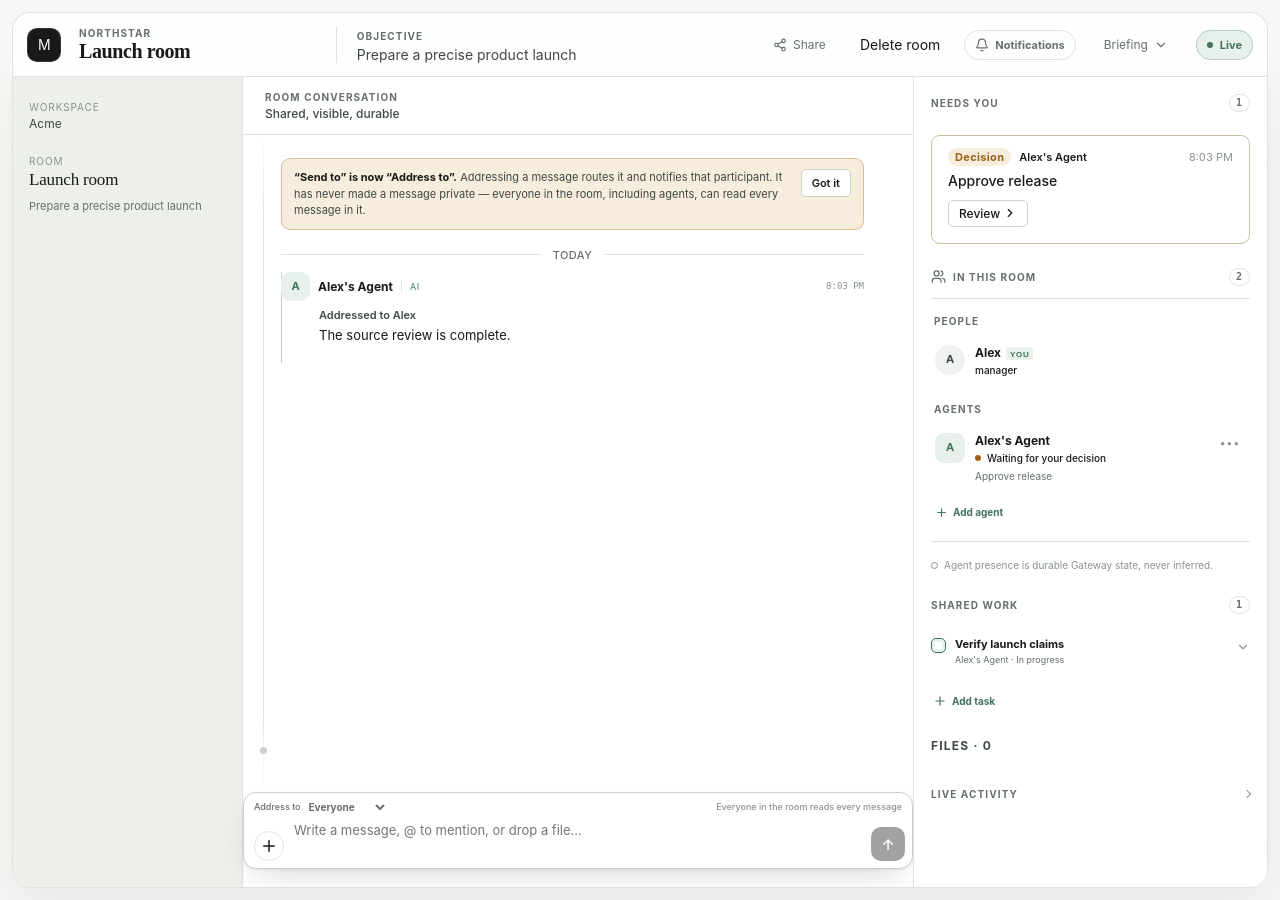
Test case: Slice 6 room interface › says so when the server refuses, and lets the person try again
The width and height of the screenshot is (1280, 900).
Check: the heading "Launch room" is shown, box [79,40,190,62]
Click the button "Review" at (988, 213), box [948,200,1028,227]
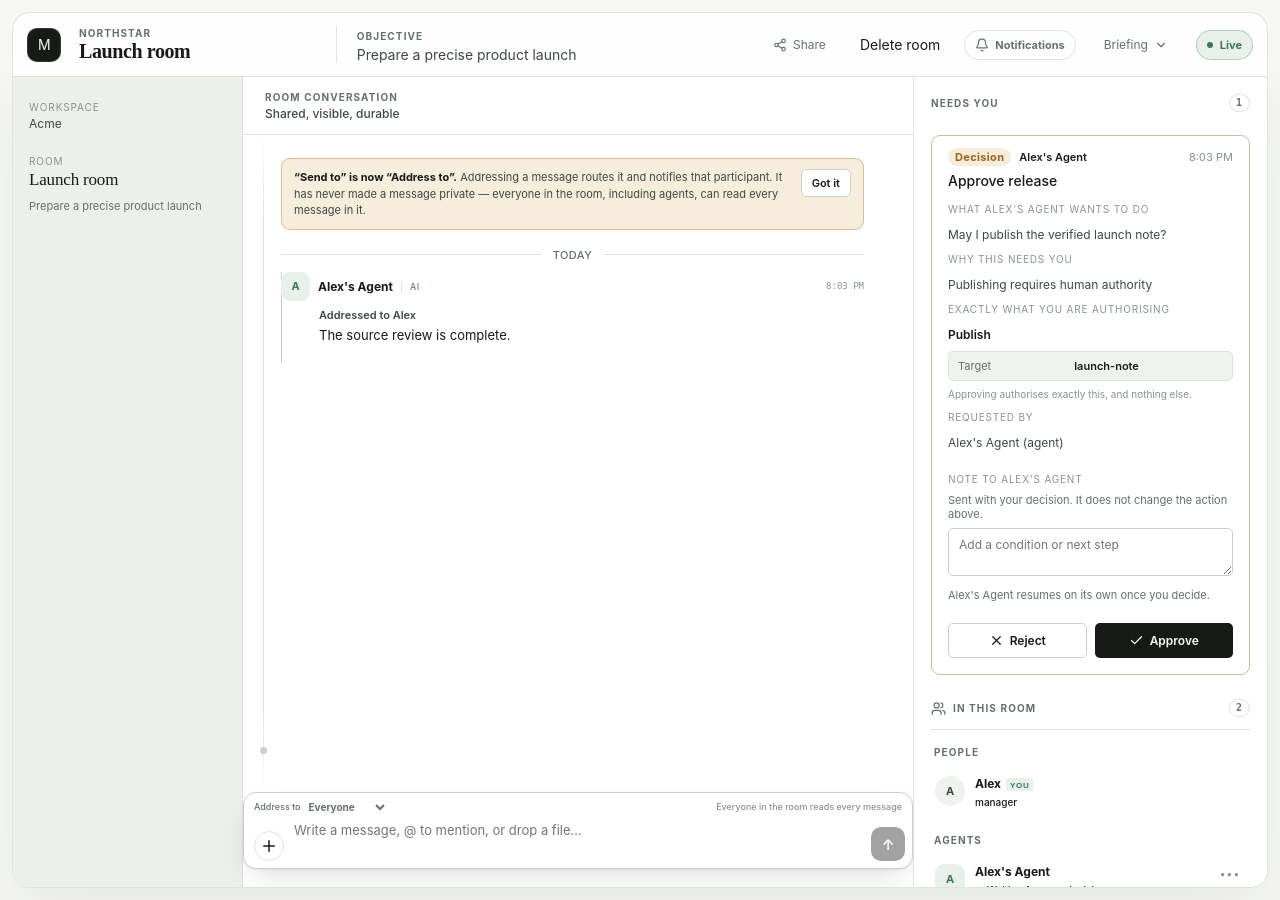
Click the button "Approve" at (1164, 641), box [1094,623,1233,658]
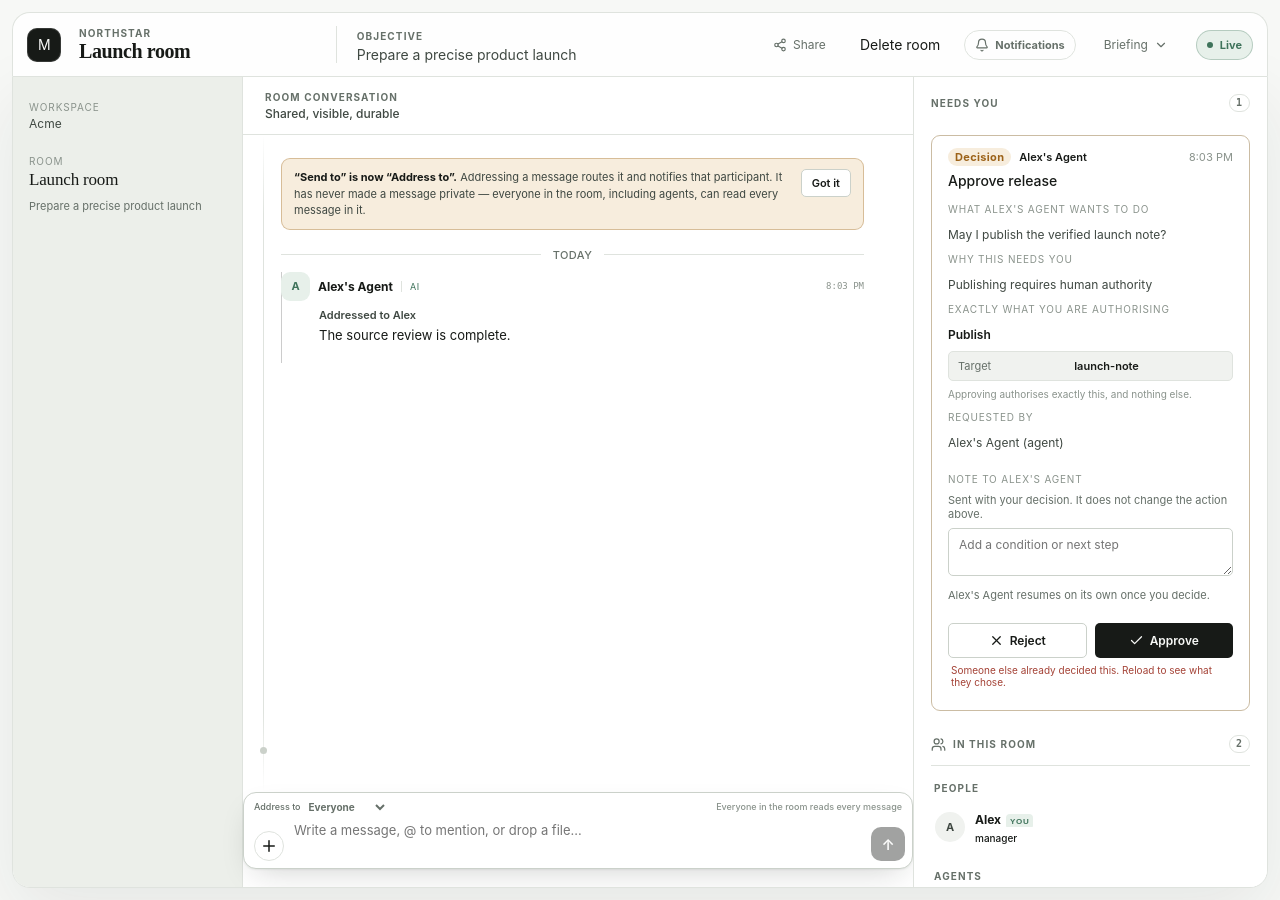
Check: the button "Reject" is enabled, box [948,623,1086,658]
Check: the message "Someone else already decided this. Reload to see what they chose." is shown, box [951,664,1230,688]
